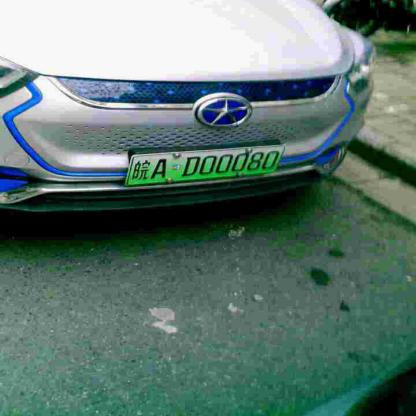lp: (124, 146, 285, 184)
